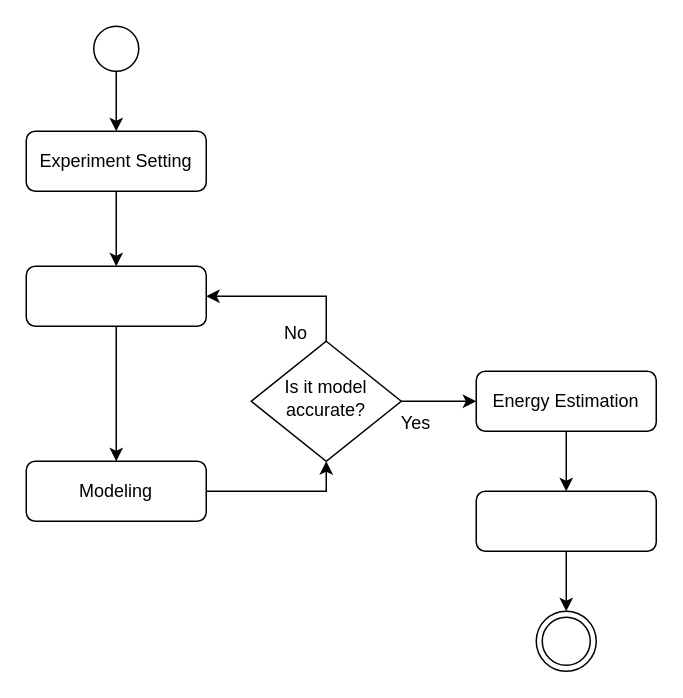
Image size: 683x698. Some labels were removed from this diagram. The centre of each missing label's shape, as x and y in pixels:
Profiling: point 115,295
Validation: point 565,520
